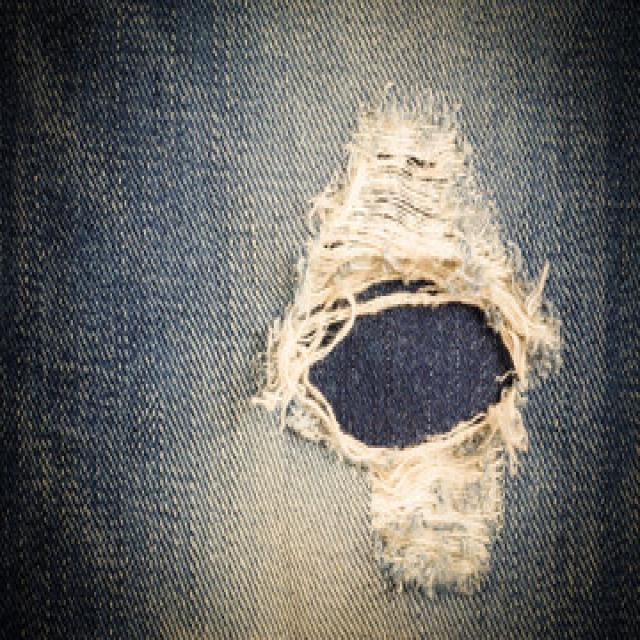Hole: (254, 85, 562, 594)
